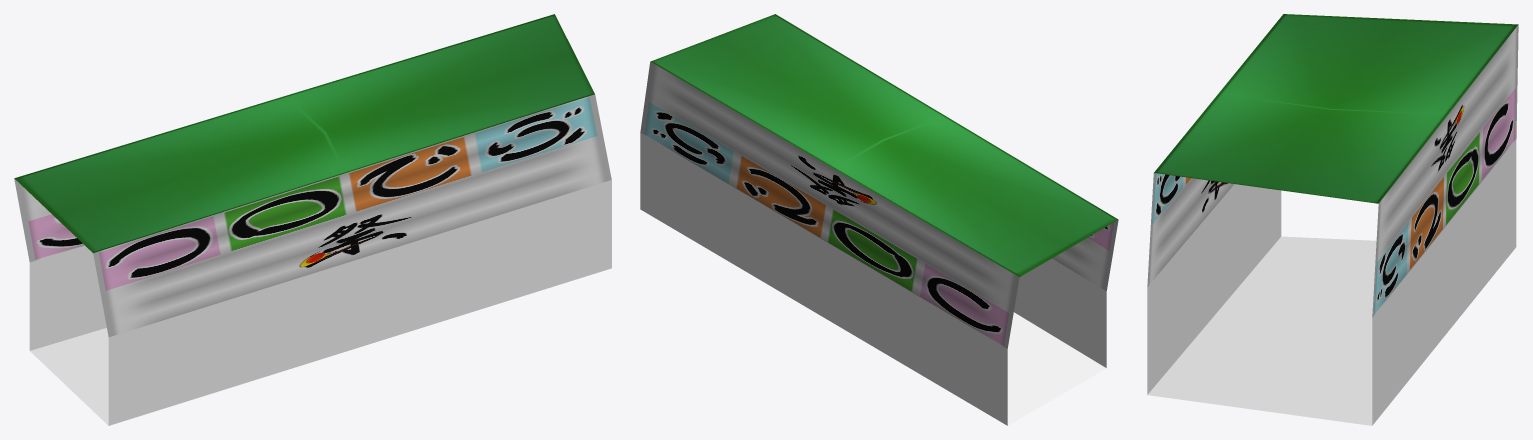
The model's file is CourseWinter_Wall_R_15_7.fbx.
The picture shows the model from 3 angles, left to right: view 1: azimuth 30°, elevation 25°; view 2: azimuth 150°, elevation 25°; view 3: azimuth 270°, elevation 25°; orthographic projection. The views are drawn at different scales.
Parts seen in each view (by area): view 1: polySurface583; view 2: polySurface583; view 3: polySurface583.
Part boxes in pixels (left/top/right/bottom): polySurface583: left=14, top=14, right=611, bottom=425; polySurface583: left=640, top=14, right=1118, bottom=425; polySurface583: left=1147, top=14, right=1518, bottom=425.
Bounding box in the file's own units: 6.09 × 2.98 × 3.12.
Materials: 1 (1 with a texture image).
